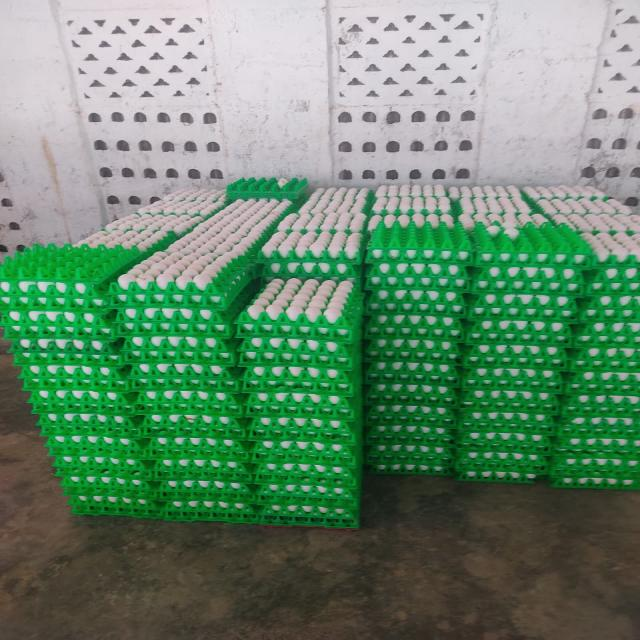egg_tray: (456, 224, 581, 482), (365, 186, 471, 446), (4, 246, 130, 412), (113, 200, 289, 306), (239, 278, 359, 420), (121, 294, 245, 413), (119, 200, 277, 290), (239, 279, 359, 396), (251, 406, 360, 526), (0, 246, 139, 340), (247, 326, 359, 442), (251, 406, 361, 518), (567, 233, 639, 393), (0, 242, 141, 323), (365, 224, 470, 331), (236, 278, 362, 365), (123, 326, 241, 414), (460, 349, 562, 448), (253, 435, 361, 526), (245, 334, 359, 420), (114, 288, 251, 359), (364, 314, 461, 414), (473, 224, 591, 304), (140, 412, 248, 498), (145, 410, 250, 498), (76, 190, 225, 252), (247, 398, 361, 479), (0, 245, 140, 310), (456, 385, 557, 473), (1, 274, 116, 350), (75, 189, 224, 246), (0, 244, 139, 303), (365, 312, 456, 402), (365, 256, 467, 336), (459, 186, 636, 232), (363, 311, 463, 392), (238, 278, 361, 342), (39, 406, 147, 478), (42, 408, 149, 480), (115, 292, 245, 349), (455, 408, 555, 482), (575, 233, 639, 348), (465, 319, 570, 388), (365, 331, 461, 404), (174, 477, 359, 514), (123, 333, 239, 391), (77, 200, 223, 246), (69, 486, 255, 522), (2, 298, 117, 356), (448, 186, 631, 222), (123, 333, 237, 390), (3, 304, 116, 361), (364, 340, 460, 406), (121, 331, 236, 386), (364, 406, 455, 474), (243, 346, 359, 399), (119, 330, 203, 402), (127, 266, 253, 314), (163, 498, 358, 528), (455, 424, 552, 481), (570, 293, 639, 372), (365, 214, 473, 264), (365, 258, 468, 310), (364, 288, 466, 340), (524, 186, 638, 232), (473, 224, 592, 268), (523, 186, 636, 232), (365, 214, 472, 262), (237, 328, 359, 370), (259, 231, 363, 280), (69, 495, 256, 522), (12, 331, 119, 378), (61, 476, 252, 502), (549, 433, 639, 488), (249, 281, 352, 329), (57, 456, 155, 506), (105, 188, 225, 228), (455, 431, 549, 482), (135, 378, 241, 423), (247, 278, 353, 323), (153, 472, 250, 521), (145, 438, 251, 482), (202, 200, 289, 253), (449, 186, 547, 232), (473, 264, 584, 304), (551, 428, 639, 478), (363, 297, 465, 340), (277, 188, 372, 233), (130, 352, 239, 391), (365, 402, 457, 447), (278, 188, 371, 232), (115, 304, 237, 337), (243, 362, 360, 396), (132, 378, 242, 414), (368, 185, 454, 230), (365, 404, 457, 446), (105, 189, 203, 228), (247, 389, 359, 422), (251, 434, 359, 468), (581, 232, 639, 295), (535, 198, 639, 233), (470, 224, 552, 268), (365, 403, 456, 442), (65, 482, 163, 518), (468, 290, 578, 322), (4, 308, 114, 340), (559, 392, 639, 436), (28, 381, 134, 414), (567, 346, 639, 394), (457, 196, 548, 233), (244, 415, 360, 444), (255, 478, 359, 510), (557, 400, 639, 440), (11, 336, 119, 366), (253, 458, 361, 488), (38, 408, 144, 438), (466, 316, 571, 346), (11, 339, 119, 367), (77, 224, 176, 254), (565, 372, 637, 413), (145, 434, 250, 462), (39, 406, 137, 436), (147, 429, 212, 474), (365, 442, 455, 474), (367, 202, 455, 234), (45, 432, 148, 459), (462, 344, 568, 370), (140, 412, 244, 438), (19, 364, 127, 389), (458, 408, 556, 435), (577, 290, 639, 332), (363, 336, 463, 362), (60, 471, 156, 498), (257, 503, 359, 528), (461, 388, 559, 414), (53, 452, 151, 478), (277, 206, 367, 234), (463, 366, 563, 391), (457, 206, 548, 233), (573, 311, 639, 348), (563, 388, 639, 420), (364, 360, 459, 385), (450, 186, 531, 214), (69, 494, 162, 518), (137, 188, 225, 213), (372, 196, 454, 222), (364, 382, 457, 404), (226, 177, 307, 202), (365, 449, 449, 472), (536, 198, 632, 218), (569, 345, 639, 372), (565, 368, 639, 393), (574, 322, 639, 350), (143, 188, 225, 210), (550, 214, 639, 233), (365, 458, 452, 476), (523, 185, 607, 201), (550, 476, 639, 490), (448, 185, 521, 202), (374, 184, 447, 200), (456, 469, 537, 483), (209, 392, 232, 410), (252, 392, 285, 404), (141, 390, 169, 401), (180, 460, 216, 468), (505, 437, 525, 449), (175, 242, 193, 254), (341, 348, 358, 360), (137, 341, 161, 349), (421, 386, 441, 395), (292, 394, 312, 402), (403, 387, 425, 394), (58, 408, 73, 418), (251, 323, 263, 335), (575, 392, 587, 404), (502, 336, 520, 344), (349, 314, 359, 328), (572, 440, 595, 446), (207, 359, 225, 366), (479, 338, 489, 350), (313, 316, 321, 330), (368, 318, 379, 328), (194, 234, 203, 246), (197, 460, 210, 468), (167, 436, 180, 444), (160, 236, 170, 246), (309, 280, 321, 288), (285, 409, 297, 416), (307, 394, 315, 404), (163, 490, 173, 498), (497, 194, 505, 204), (249, 368, 259, 375), (107, 454, 118, 460), (55, 300, 67, 305), (386, 306, 401, 310), (265, 412, 272, 420), (158, 354, 167, 360), (94, 300, 103, 306), (71, 300, 81, 305), (239, 316, 246, 323), (300, 469, 307, 476), (435, 326, 446, 330), (113, 478, 127, 481), (223, 346, 231, 351), (291, 396, 297, 402), (179, 390, 185, 396), (345, 362, 351, 368), (495, 187, 502, 192), (191, 352, 199, 356), (264, 338, 272, 342), (203, 441, 207, 449), (264, 308, 267, 318), (5, 272, 11, 277), (292, 370, 297, 376), (633, 406, 639, 411), (187, 272, 194, 276), (303, 508, 311, 511), (289, 450, 295, 454), (225, 488, 231, 492), (404, 390, 410, 394), (383, 330, 389, 334), (248, 344, 254, 348), (161, 460, 173, 462), (411, 306, 417, 310), (194, 438, 205, 440), (383, 331, 390, 334), (493, 218, 497, 223), (289, 450, 294, 454), (447, 298, 452, 302), (224, 488, 229, 492), (57, 457, 63, 460), (329, 396, 332, 402), (568, 238, 571, 244), (428, 292, 437, 294), (348, 437, 352, 441), (523, 202, 527, 206), (309, 336, 317, 338), (443, 249, 448, 252), (323, 315, 326, 320), (116, 324, 121, 327), (257, 372, 262, 375), (610, 364, 613, 369), (387, 250, 394, 252), (233, 490, 239, 492), (319, 362, 325, 364), (371, 292, 374, 296), (305, 340, 311, 342), (141, 479, 145, 482), (63, 478, 67, 481), (123, 491, 127, 494), (181, 357, 185, 360), (425, 427, 431, 429), (156, 316, 159, 320), (257, 328, 259, 334), (354, 424, 357, 428), (450, 194, 453, 198), (507, 380, 511, 383), (309, 344, 313, 347), (17, 300, 23, 302), (395, 405, 399, 408), (424, 306, 427, 310), (242, 490, 247, 492), (119, 416, 124, 418), (419, 332, 424, 334), (194, 318, 199, 320), (162, 496, 167, 498), (143, 344, 146, 347), (7, 269, 10, 272), (194, 480, 198, 482), (287, 513, 291, 515), (401, 332, 405, 334), (285, 394, 289, 396), (425, 340, 429, 342), (115, 492, 119, 494), (135, 380, 139, 382), (419, 426, 421, 430), (459, 228, 461, 232), (212, 318, 216, 320), (175, 318, 179, 320), (12, 304, 16, 306), (151, 515, 157, 516), (283, 398, 285, 401), (14, 344, 17, 346), (245, 340, 248, 342), (136, 383, 138, 386), (170, 390, 173, 392), (292, 282, 295, 284), (448, 292, 451, 294), (111, 488, 113, 491), (494, 456, 497, 458), (67, 316, 70, 318), (252, 338, 255, 340), (305, 418, 311, 419), (21, 290, 24, 292), (616, 394, 619, 396), (385, 398, 391, 399), (323, 453, 329, 454), (97, 346, 99, 348), (0, 305, 4, 306), (137, 254, 139, 256), (481, 206, 483, 208), (337, 402, 339, 404), (249, 398, 251, 400), (172, 397, 174, 399), (203, 376, 205, 378), (142, 341, 144, 343), (565, 242, 567, 244), (133, 359, 134, 363), (507, 224, 509, 226), (345, 350, 347, 352), (267, 346, 269, 348), (245, 340, 247, 342), (186, 480, 190, 481), (622, 364, 624, 366), (195, 246, 197, 248), (465, 461, 467, 463), (258, 387, 260, 389), (509, 224, 512, 225), (83, 409, 86, 410), (14, 318, 17, 319), (184, 315, 185, 318), (191, 198, 194, 199), (248, 520, 251, 521), (355, 310, 356, 312), (193, 345, 195, 346), (449, 322, 450, 324), (287, 438, 289, 439), (337, 363, 339, 364), (171, 234, 172, 236), (431, 460, 432, 462), (192, 316, 193, 318), (196, 466, 197, 468), (533, 388, 535, 389), (618, 361, 619, 363), (259, 365, 261, 366), (369, 226, 370, 228), (252, 338, 253, 339), (354, 427, 355, 428), (303, 205, 304, 206), (160, 437, 161, 438), (496, 374, 497, 375), (454, 321, 455, 322), (213, 274, 214, 275), (534, 438, 535, 439), (320, 510, 321, 510), (125, 503, 125, 503), (122, 501, 123, 501), (131, 461, 133, 461), (534, 326, 535, 326), (450, 252, 452, 252), (378, 245, 379, 245), (436, 234, 441, 234), (328, 454, 330, 454), (256, 354, 257, 354), (163, 497, 165, 497), (498, 205, 501, 205), (337, 408, 338, 408), (299, 314, 299, 315), (261, 310, 261, 312), (43, 355, 43, 357), (545, 354, 545, 354), (565, 233, 565, 234), (393, 303, 394, 303), (129, 488, 131, 488), (206, 356, 208, 356), (229, 297, 230, 297), (161, 203, 161, 203), (231, 385, 232, 385), (167, 332, 168, 332), (634, 436, 635, 436), (76, 414, 77, 414), (209, 434, 212, 434), (231, 397, 232, 397), (66, 327, 68, 327), (34, 370, 35, 370), (145, 355, 145, 355), (401, 332, 404, 332), (205, 505, 205, 505), (619, 363, 619, 365), (200, 252, 201, 252), (355, 408, 356, 408), (313, 419, 315, 419), (513, 188, 514, 188), (506, 188, 511, 188), (211, 192, 213, 192), (588, 459, 590, 459), (461, 441, 461, 441), (507, 439, 509, 439), (331, 454, 332, 454), (317, 454, 319, 454), (262, 387, 263, 387), (273, 372, 275, 372), (281, 354, 281, 354), (303, 350, 303, 350), (429, 408, 430, 408), (227, 496, 228, 496), (219, 496, 221, 496)
